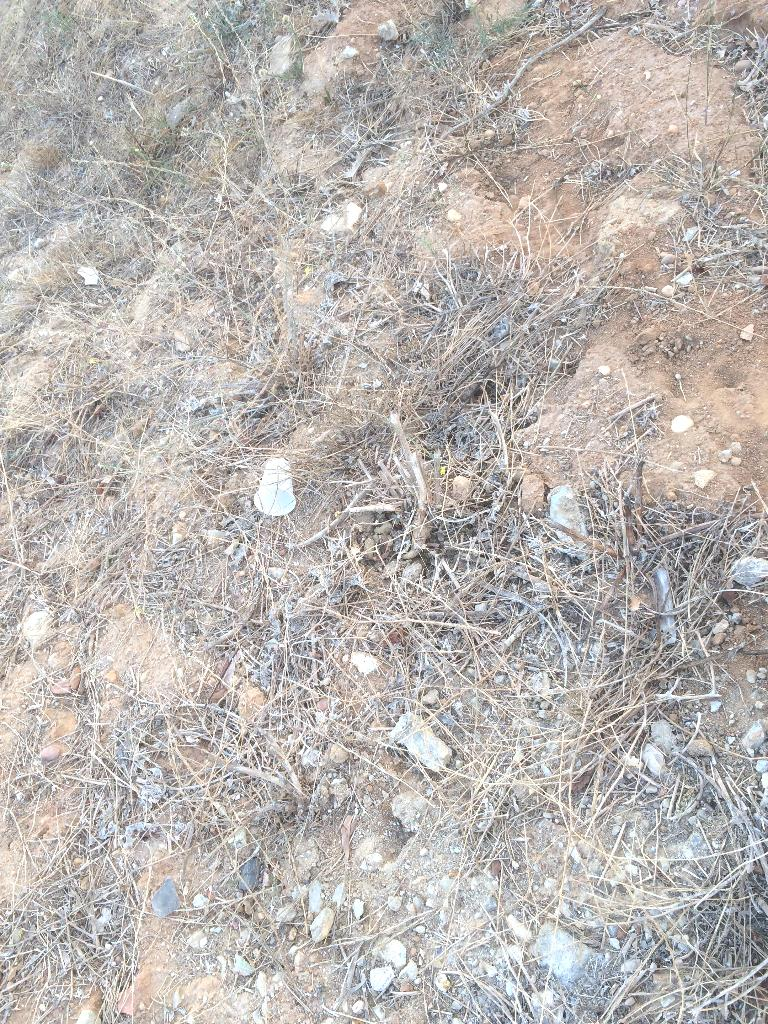garbage: (224, 441, 312, 534), (254, 458, 295, 516)
